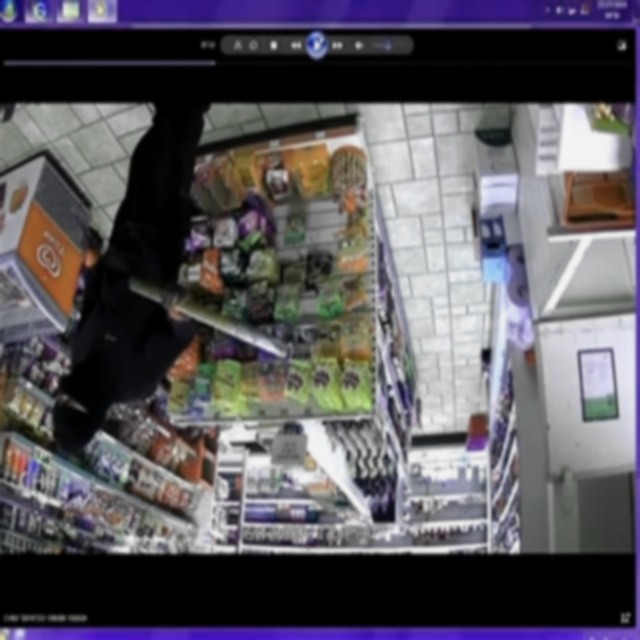gun: (119, 270, 298, 367), (66, 207, 102, 249)
